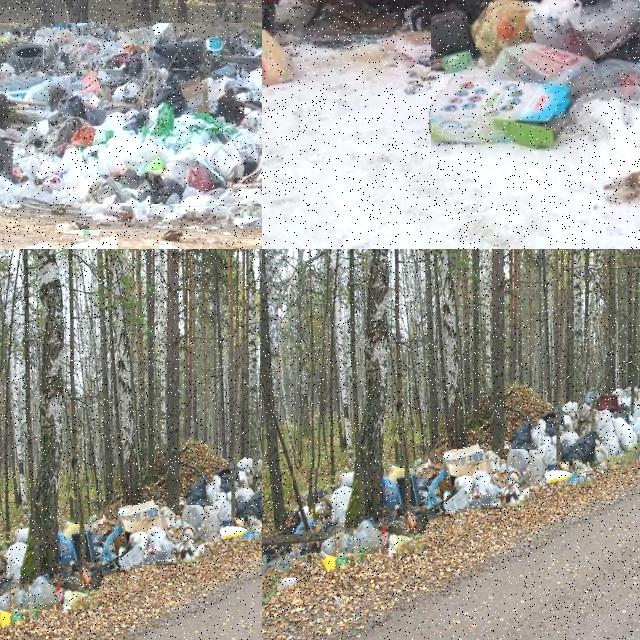lixeira: (0, 22, 261, 206), (431, 0, 639, 215), (293, 468, 428, 554), (0, 523, 103, 611), (429, 78, 576, 136), (511, 412, 639, 475), (104, 505, 206, 566), (429, 449, 531, 510), (186, 468, 261, 531), (0, 229, 237, 248), (81, 206, 261, 231), (586, 391, 639, 443), (262, 534, 307, 580), (262, 29, 295, 86)
